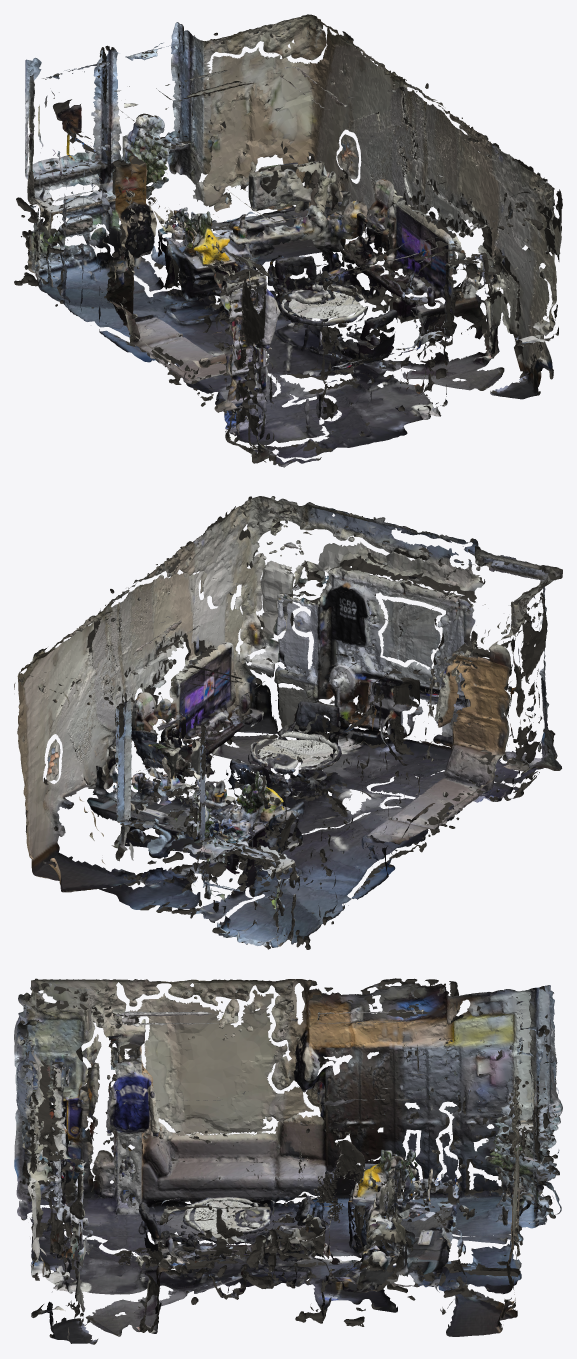
File: mvs-hybrid-more.glb
3 views of the same model, one above another, from view 1: azimuth 30°, elevation 25°; view 2: azimuth 150°, elevation 25°; view 3: azimuth 270°, elevation 25° (orthographic).
Parts seen in each view (by area): view 1: mesh.ply; view 2: mesh.ply; view 3: mesh.ply.
Boxes of the visible parts, x1,y1,x2,y2 form: mesh.ply: (14, 14, 562, 467); mesh.ply: (14, 496, 562, 949); mesh.ply: (14, 978, 562, 1344).
Size of the model in its own units: 4.28 by 2.86 by 6.33.
Materials: 1 (1 with a texture image).
